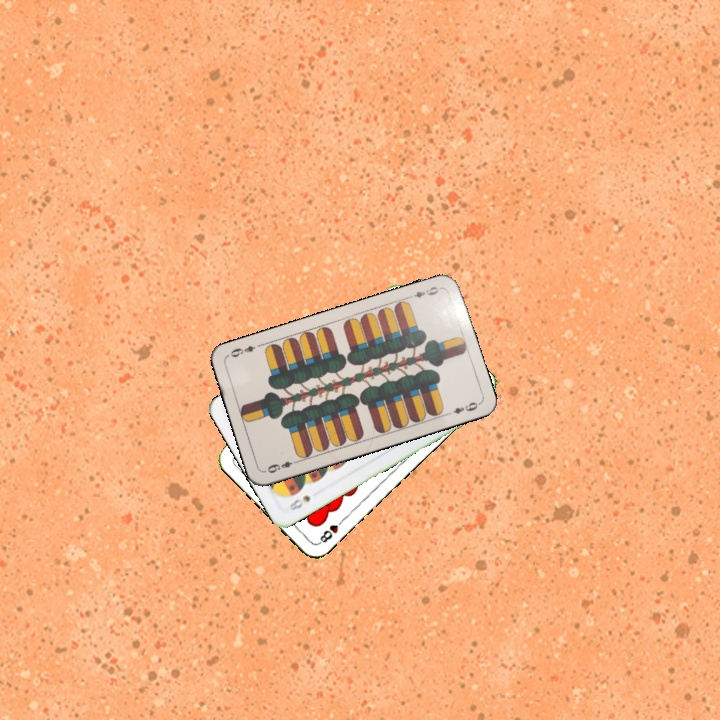E9: (263, 456, 301, 476), (404, 282, 444, 301)
H8: (314, 514, 347, 547)
S8: (286, 491, 313, 513)
